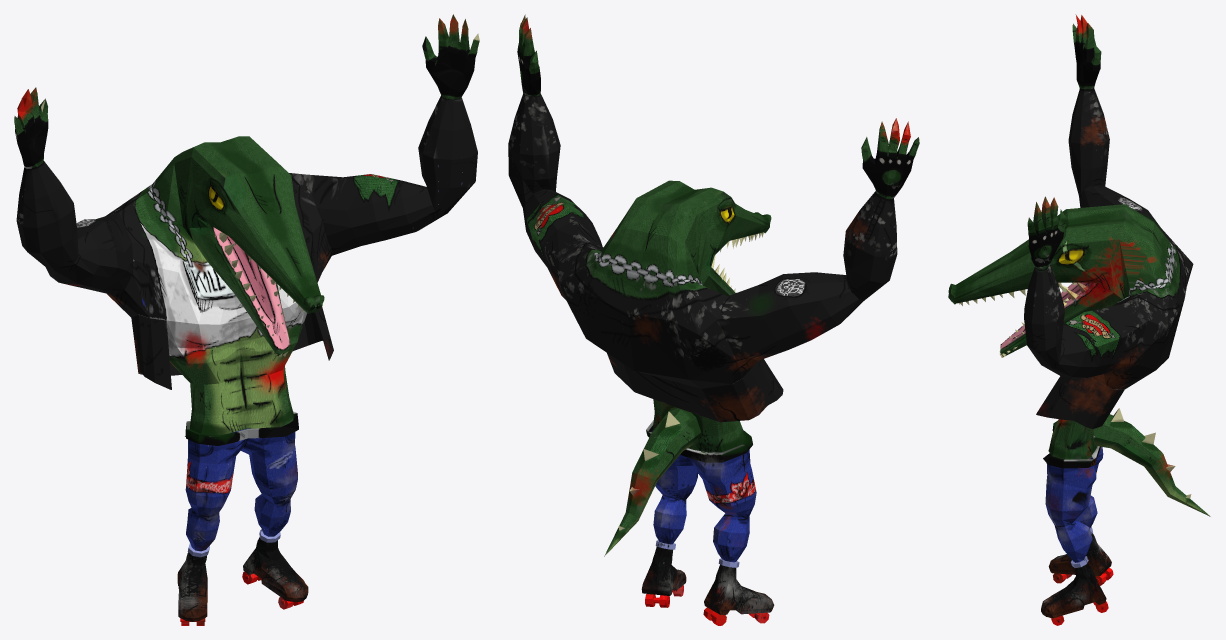
The model's file is cocodrilaBonesSelect_000056.obj.
3 renders of one model, left to right at view 1: azimuth 30°, elevation 25°; view 2: azimuth 150°, elevation 25°; view 3: azimuth 270°, elevation 25°, orthographic. The views are drawn at different scales.
Visible parts, largest first — view 1: Crocodile.002_Cylinder.002; view 2: Crocodile.002_Cylinder.002; view 3: Crocodile.002_Cylinder.002.
Boxes of the visible parts, x1,y1,x2,y2 form: Crocodile.002_Cylinder.002: (14, 14, 479, 625); Crocodile.002_Cylinder.002: (508, 14, 919, 625); Crocodile.002_Cylinder.002: (948, 14, 1210, 625).
Size of the model in its own units: 6.78 by 8.31 by 3.97.
